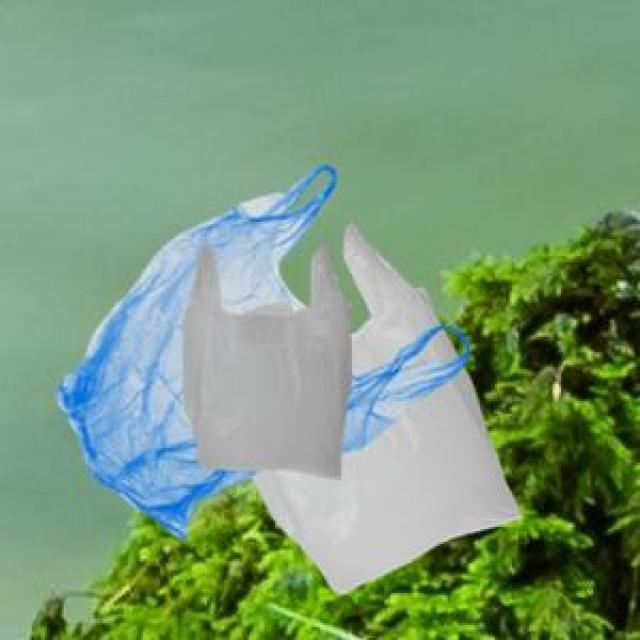waste: (61, 168, 475, 526), (263, 227, 519, 597), (176, 247, 364, 489)
